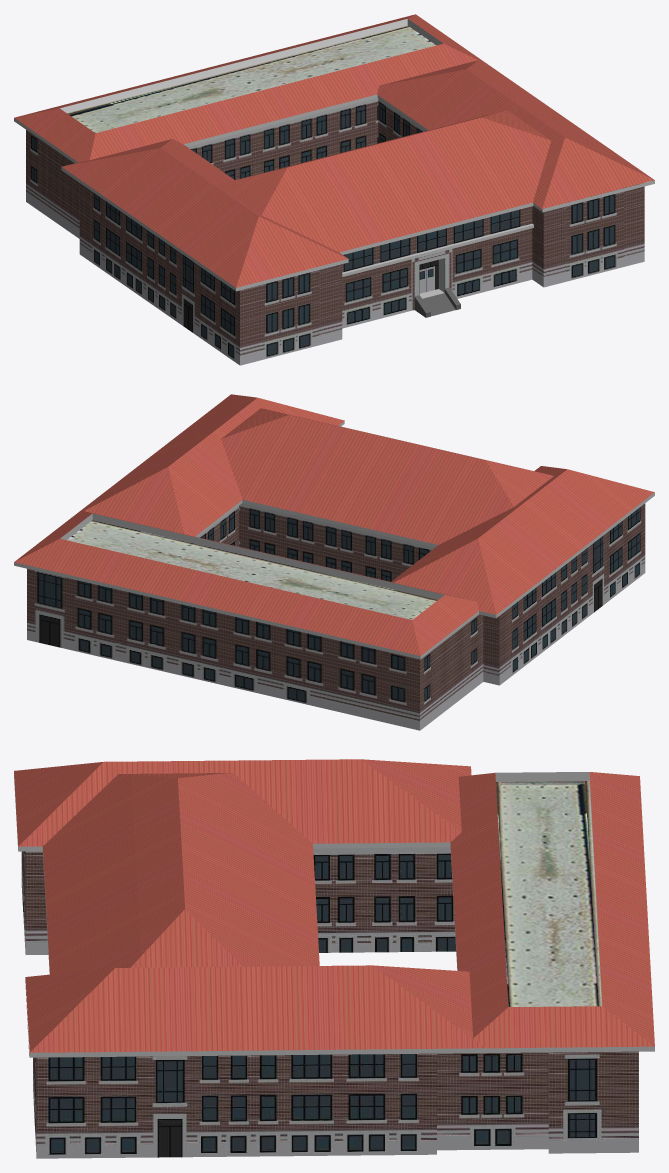
3 views of the same model, one above another, from view 1: azimuth 30°, elevation 25°; view 2: azimuth 150°, elevation 25°; view 3: azimuth 270°, elevation 25° (orthographic). The views are drawn at different scales.
Visible parts, largest first — view 1: Model, Roof01_2, Roof01_1; view 2: Model, Roof01_2, Roof01_1; view 3: Model, Roof01_1, Roof01_2.
Part boxes in pixels (<box>): Model: <box>14,14,654,365</box>; Roof01_2: <box>62,139,347,287</box>; Roof01_1: <box>377,59,654,208</box>; Model: <box>14,408,654,730</box>; Roof01_2: <box>391,466,654,614</box>; Roof01_1: <box>73,394,344,536</box>; Model: <box>14,772,654,1158</box>; Roof01_1: <box>25,965,485,1052</box>; Roof01_2: <box>14,759,471,846</box>.
Bounding box in the file's own units: 2355 × 682 × 2227.
